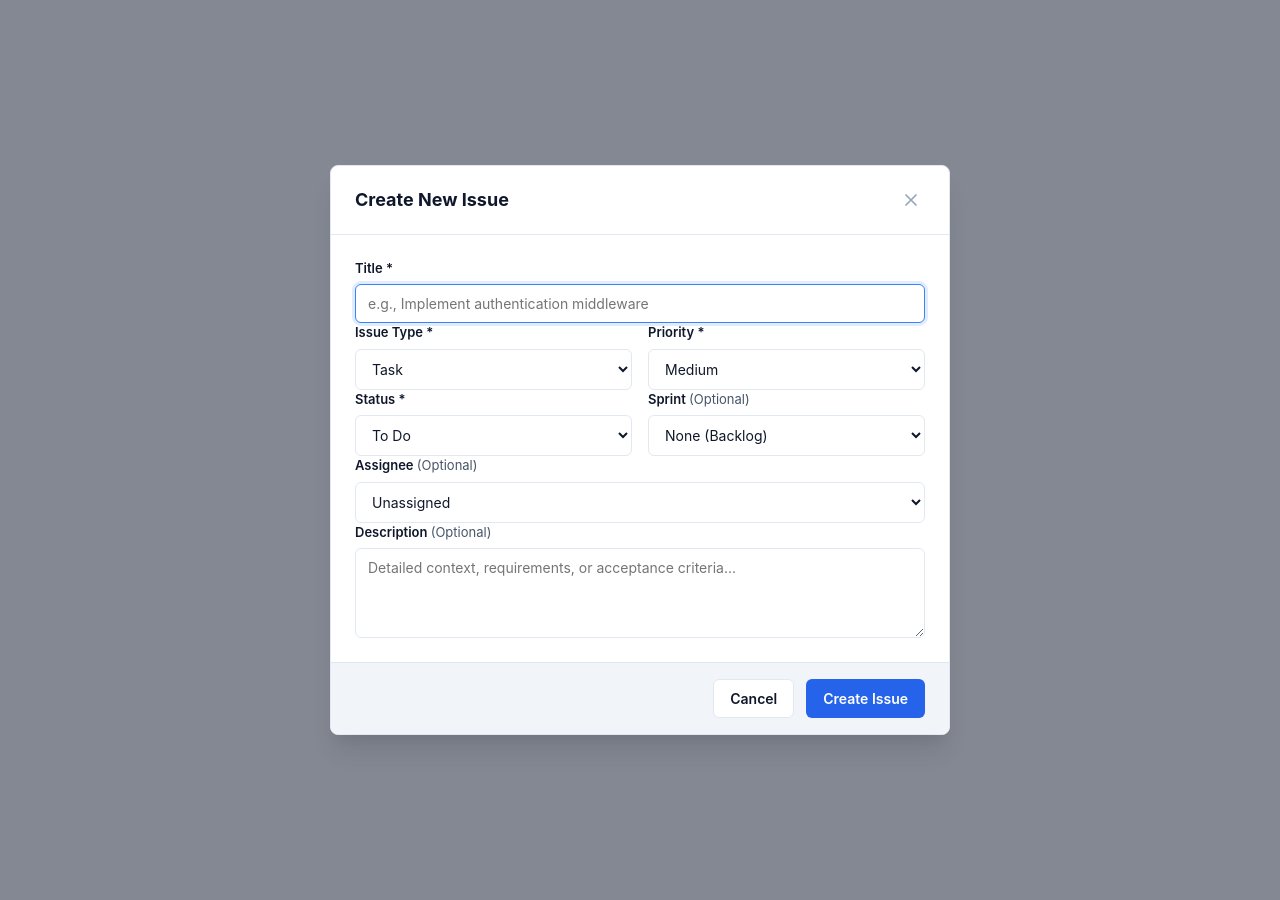
IssueModal Component › validates required title on submit
The width and height of the screenshot is (1280, 900).
Click the button "Create Issue" at (866, 699), box [806, 679, 925, 718]
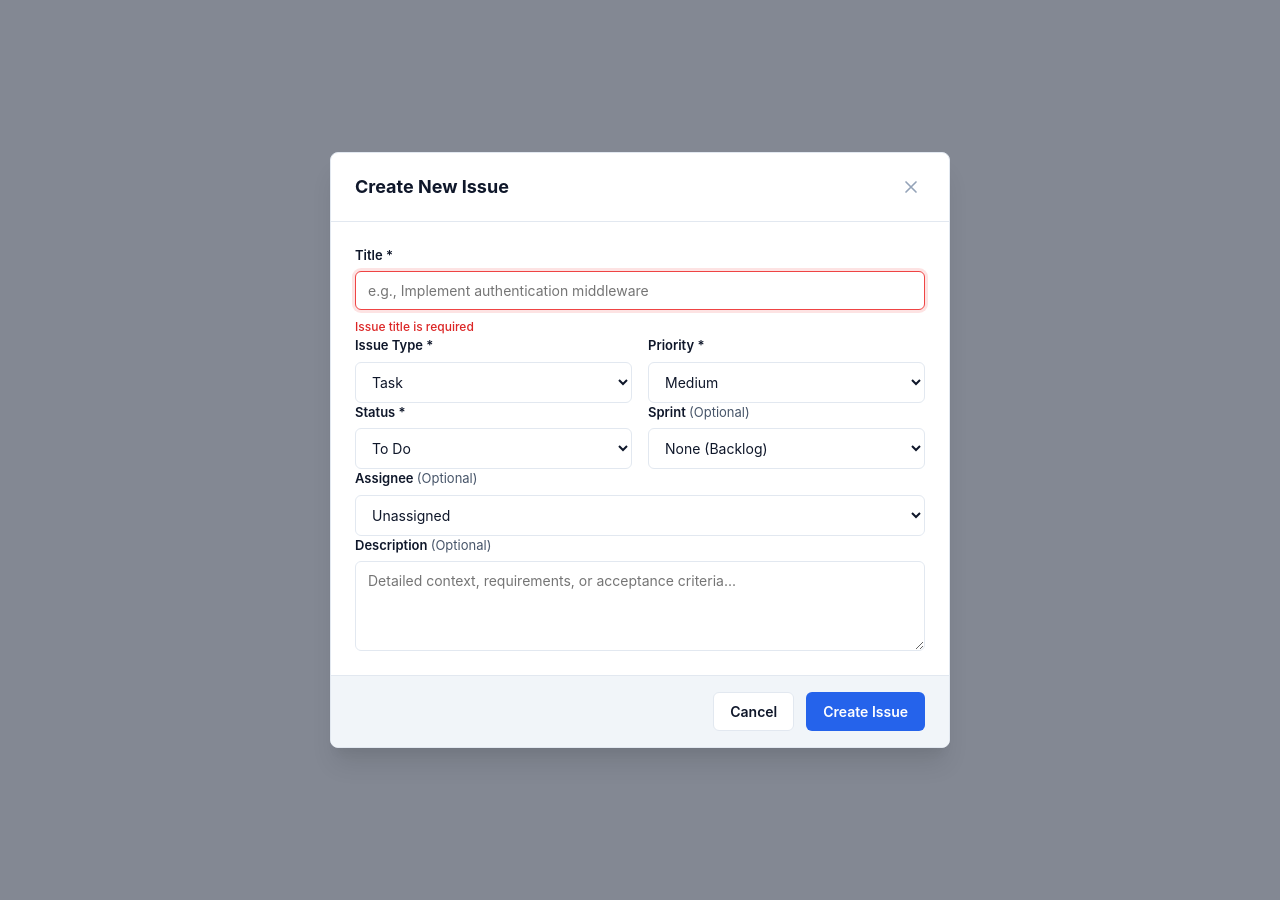
Result: the text "Issue title is required" is shown at [355, 319, 474, 334]
